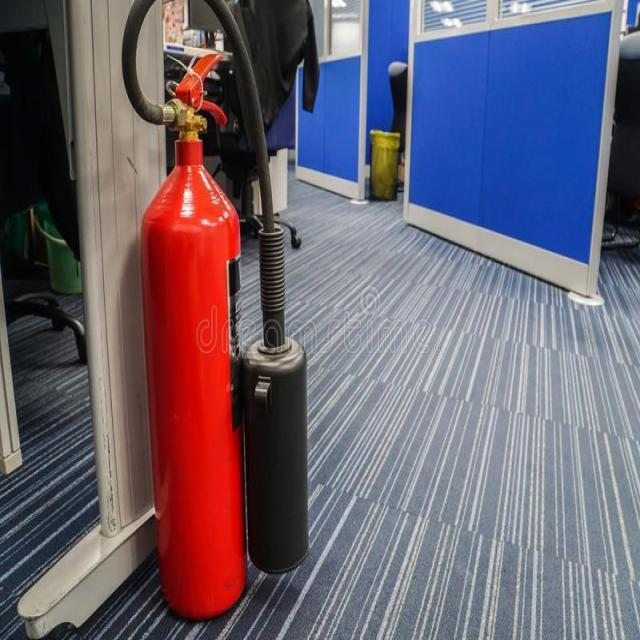fire_extinguisher: (117, 0, 313, 624)
